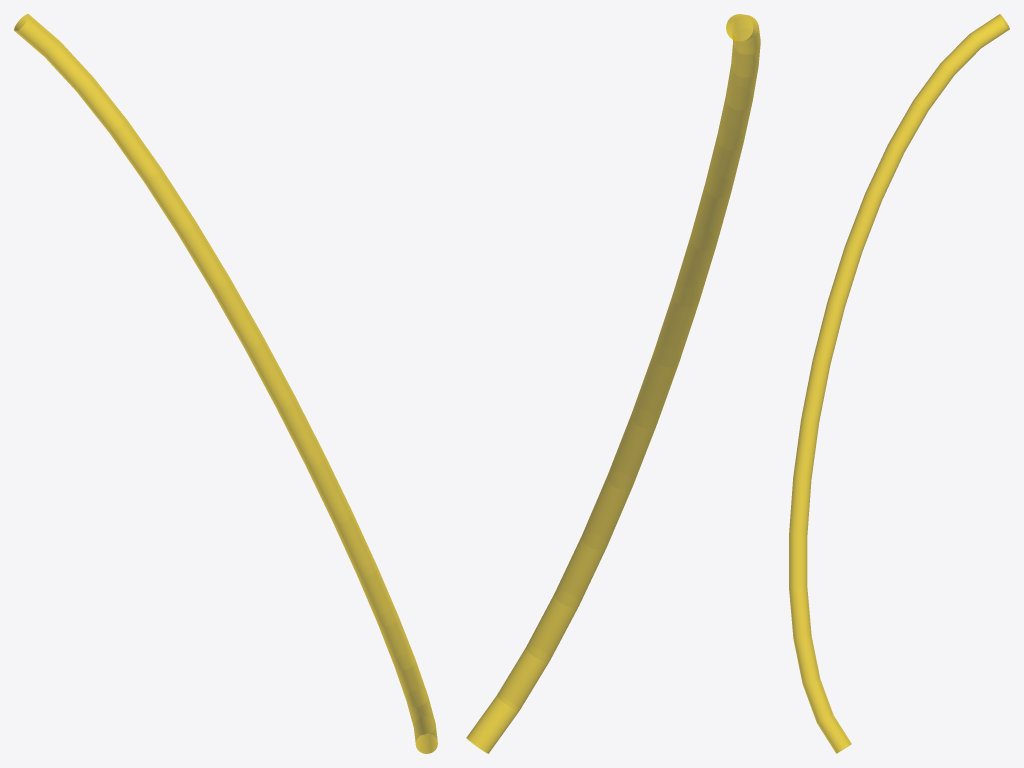
File: Event_15818458_track_66.fbx
The picture shows the model from 3 angles, left to right: view 1: azimuth 30°, elevation 25°; view 2: azimuth 150°, elevation 25°; view 3: azimuth 270°, elevation 25°; orthographic projection. The views are drawn at different scales.
Visible parts, largest first — view 1: Model; view 2: Model; view 3: Model.
Boxes of the visible parts, <box> form: Model: <box>14,14,437,753</box>; Model: <box>466,14,760,753</box>; Model: <box>789,14,1009,753</box>.
Bounding box in the file's own units: 0.6764 × 1.47 × 0.4777.
